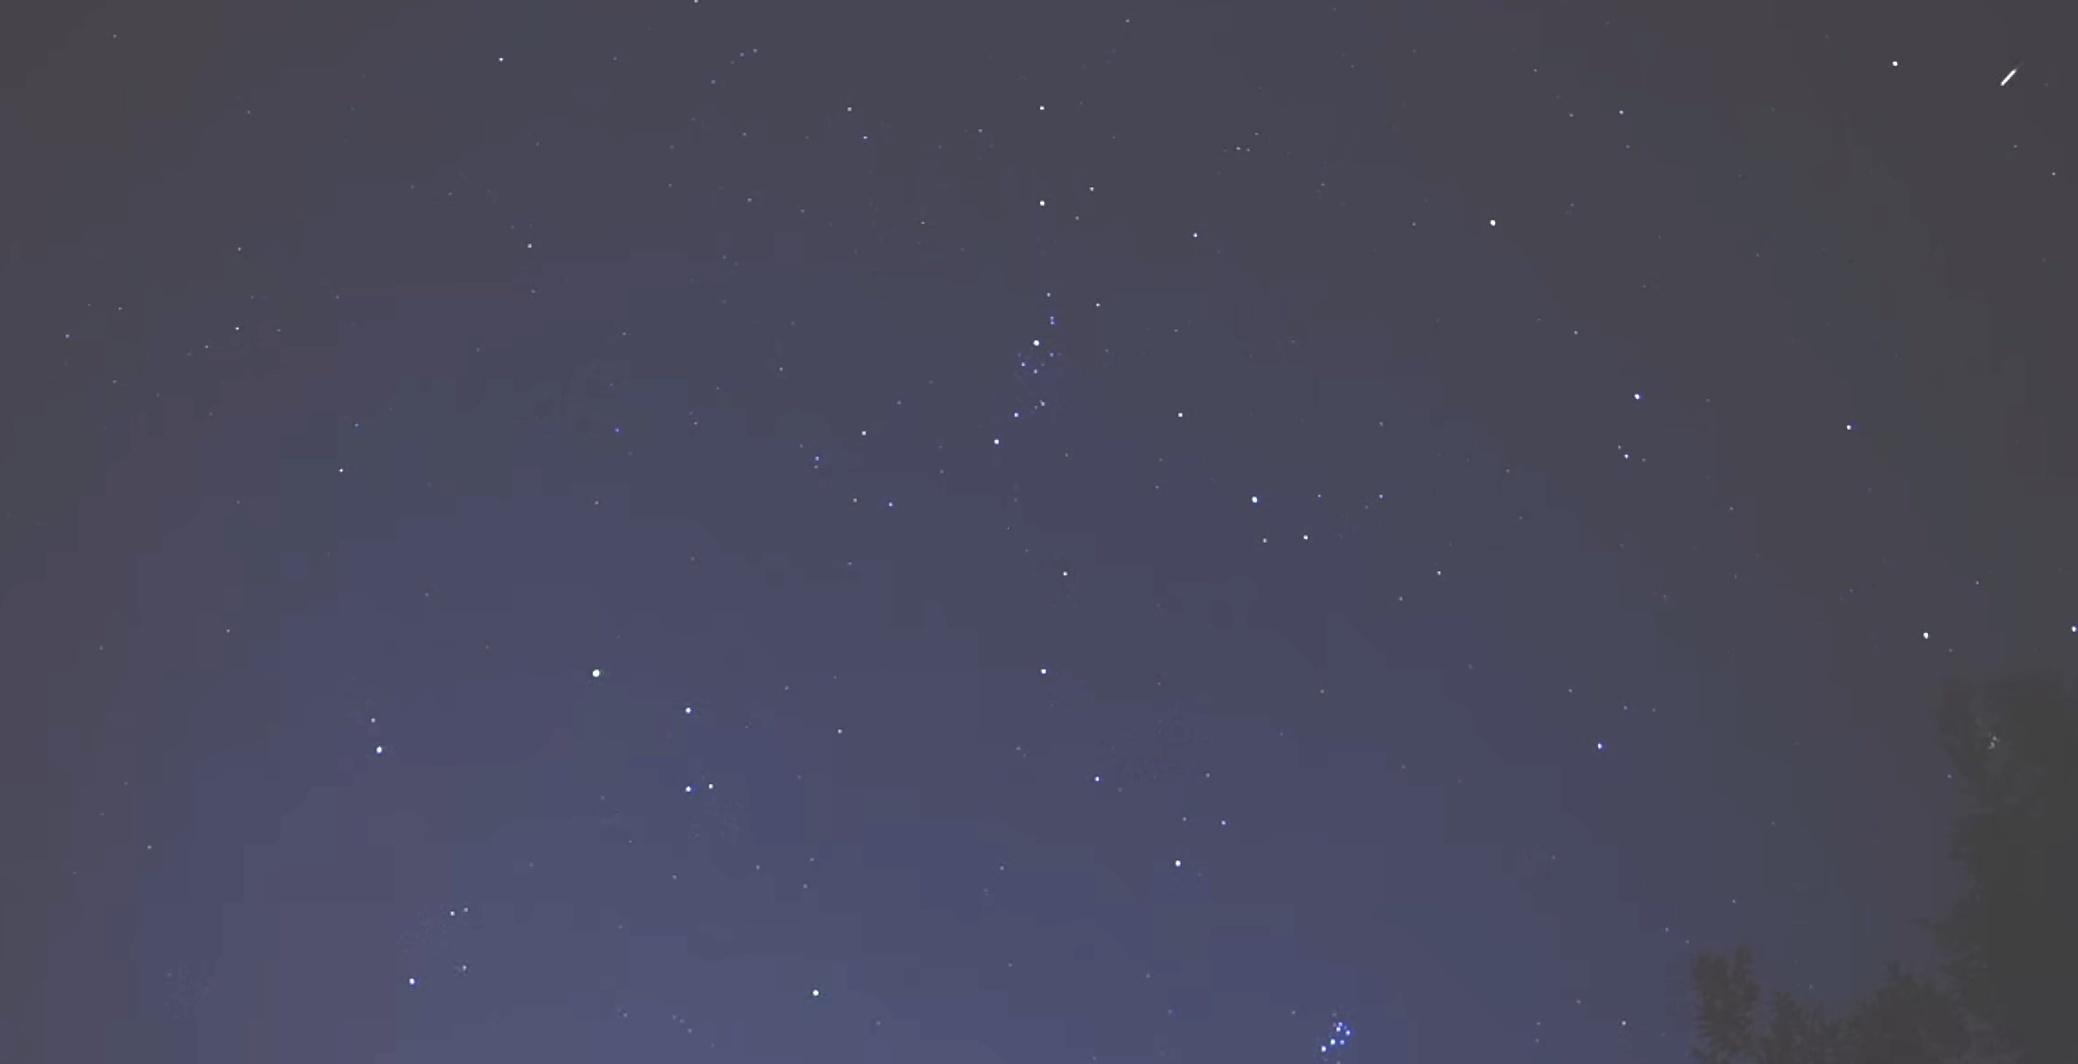meteorite: (1953, 56, 2066, 94)
